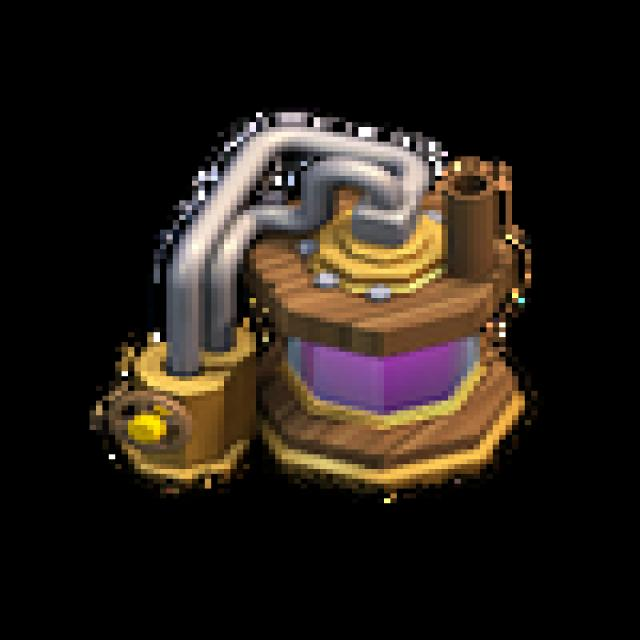elixir_collector: (61, 96, 576, 525)
